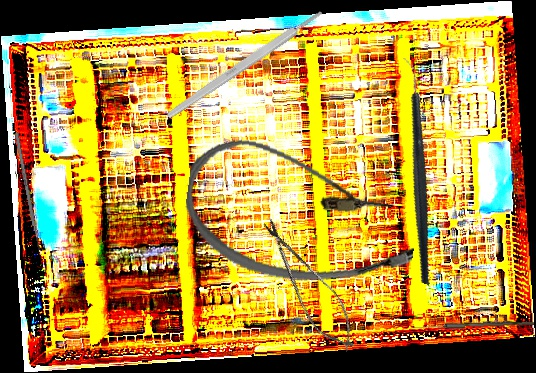Cannula: (177, 132, 426, 296)
Chopper: (339, 56, 491, 286)
Micro Scissor: (249, 210, 368, 361)
Pusher: (14, 132, 43, 258)
Scalpel Handle: (164, 7, 326, 122)
Surgical Spoon: (413, 318, 535, 332)
